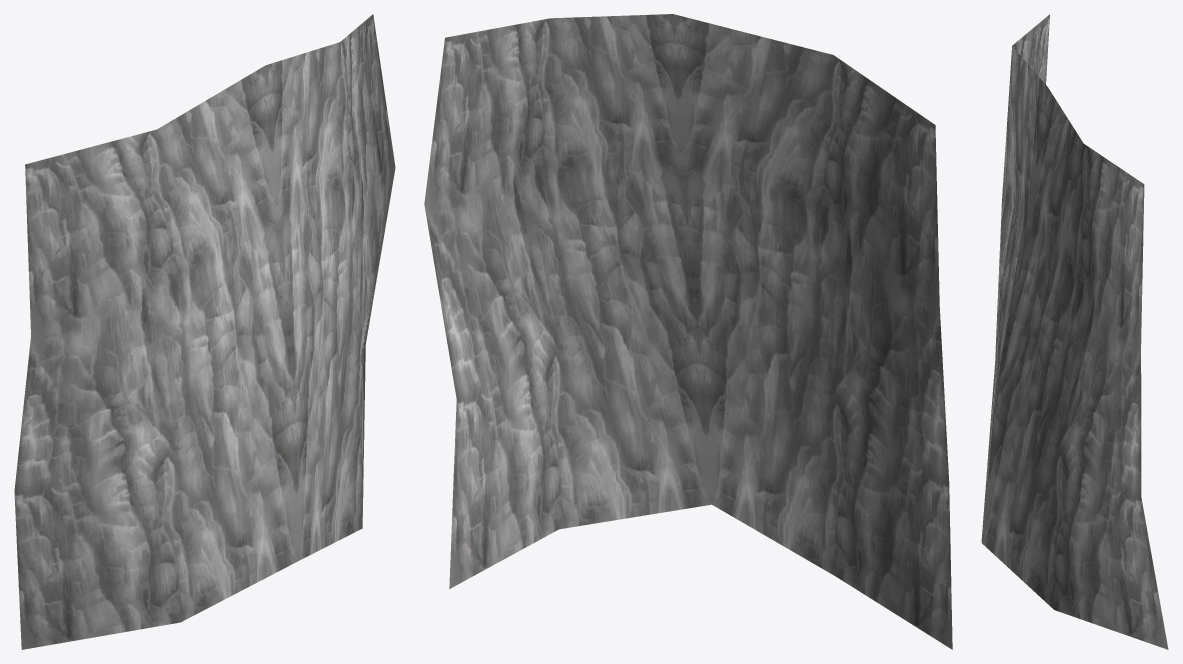
File: SWORDLIGHT20_PS-AREA03_84.fbx
3 renders of one model, left to right at view 1: azimuth 30°, elevation 25°; view 2: azimuth 150°, elevation 25°; view 3: azimuth 270°, elevation 25°, orthographic. The views are drawn at different scales.
Visible parts, largest first — view 1: SWORDLIGHT20_PS-AREA03_84; view 2: SWORDLIGHT20_PS-AREA03_84; view 3: SWORDLIGHT20_PS-AREA03_84.
Part boxes in pixels (x1,y1,x2,y2): SWORDLIGHT20_PS-AREA03_84: (14, 14, 395, 649); SWORDLIGHT20_PS-AREA03_84: (424, 14, 952, 649); SWORDLIGHT20_PS-AREA03_84: (981, 14, 1168, 649).
Size of the model in its own units: 130302 by 151076 by 50703.
1 material, 1 textured.
